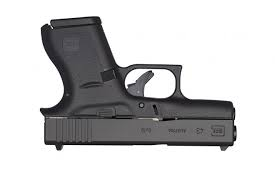gun: (35, 15, 240, 153)
